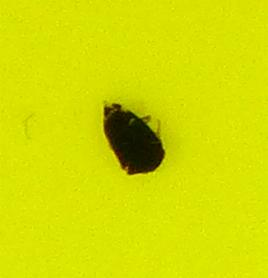Hemiptera: (100, 100, 168, 178)
